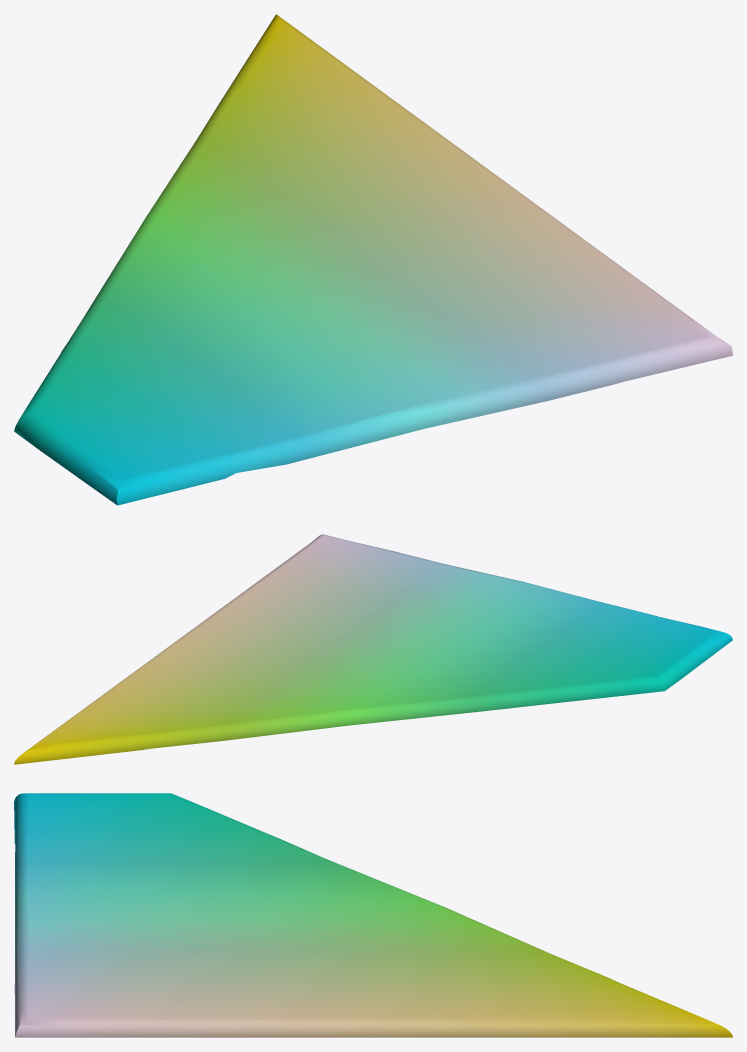
The model's file is SM_ROAD_19_5_45_19_buffer.FBX.
3 renders of one model, top to bottom at view 1: azimuth 30°, elevation 25°; view 2: azimuth 150°, elevation 25°; view 3: azimuth 270°, elevation 25°, orthographic. The views are drawn at different scales.
Visible parts, largest first — view 1: SM_ROAD_19_5_45_19_buffer; view 2: SM_ROAD_19_5_45_19_buffer; view 3: SM_ROAD_19_5_45_19_buffer.
Part boxes in pixels (x1,y1,x2,y2): SM_ROAD_19_5_45_19_buffer: [14, 14, 732, 505]; SM_ROAD_19_5_45_19_buffer: [14, 534, 732, 764]; SM_ROAD_19_5_45_19_buffer: [14, 793, 732, 1037].
Bounding box in the file's own units: 2005 × 2581 × 58.64.
